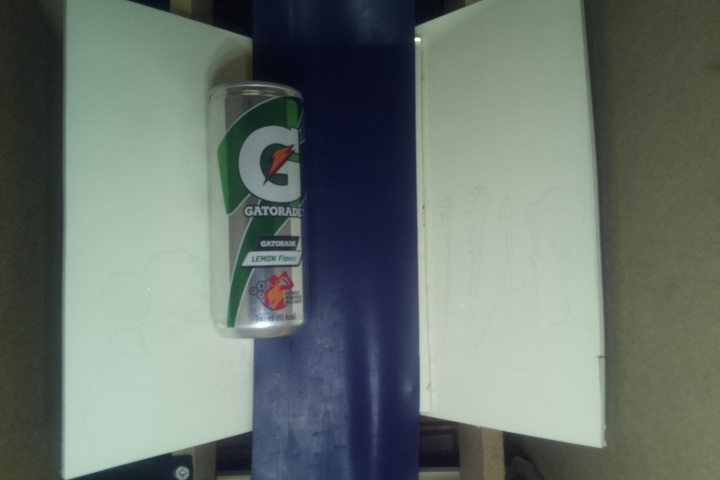can: (208, 82, 304, 337)
